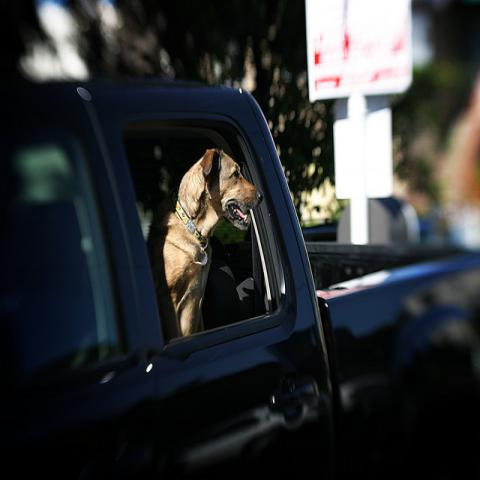truck: (0, 84, 479, 473)
